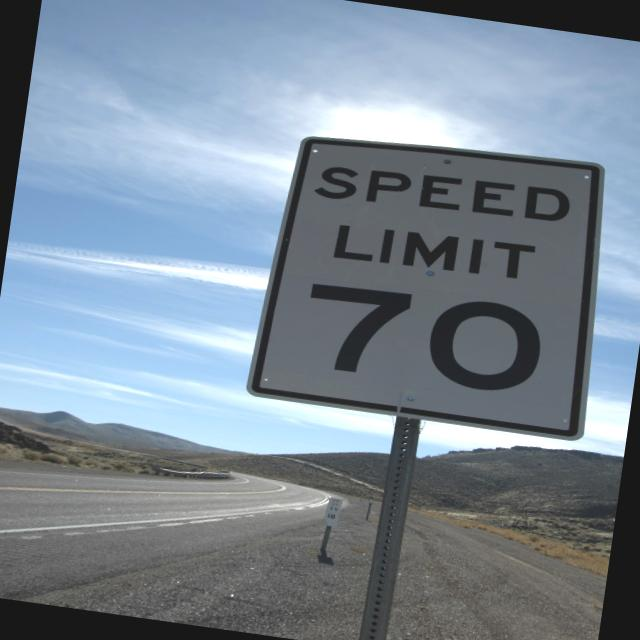Speed Limit Signs: (243, 118, 622, 444)
